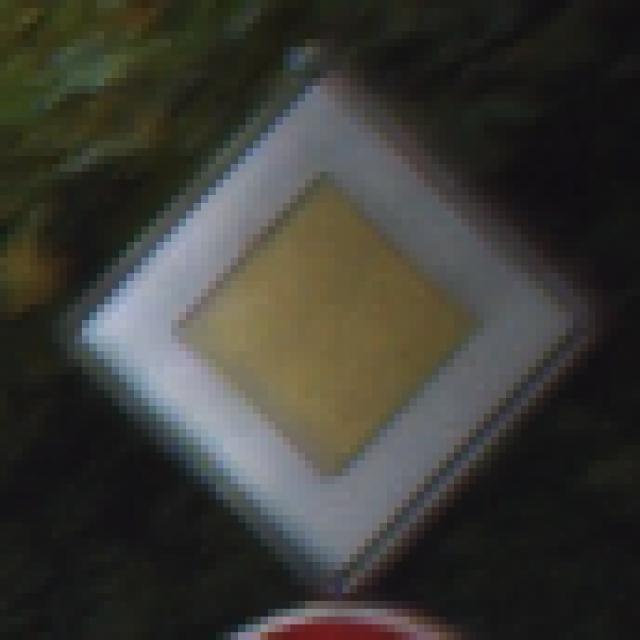Main Road: (60, 56, 589, 586)
